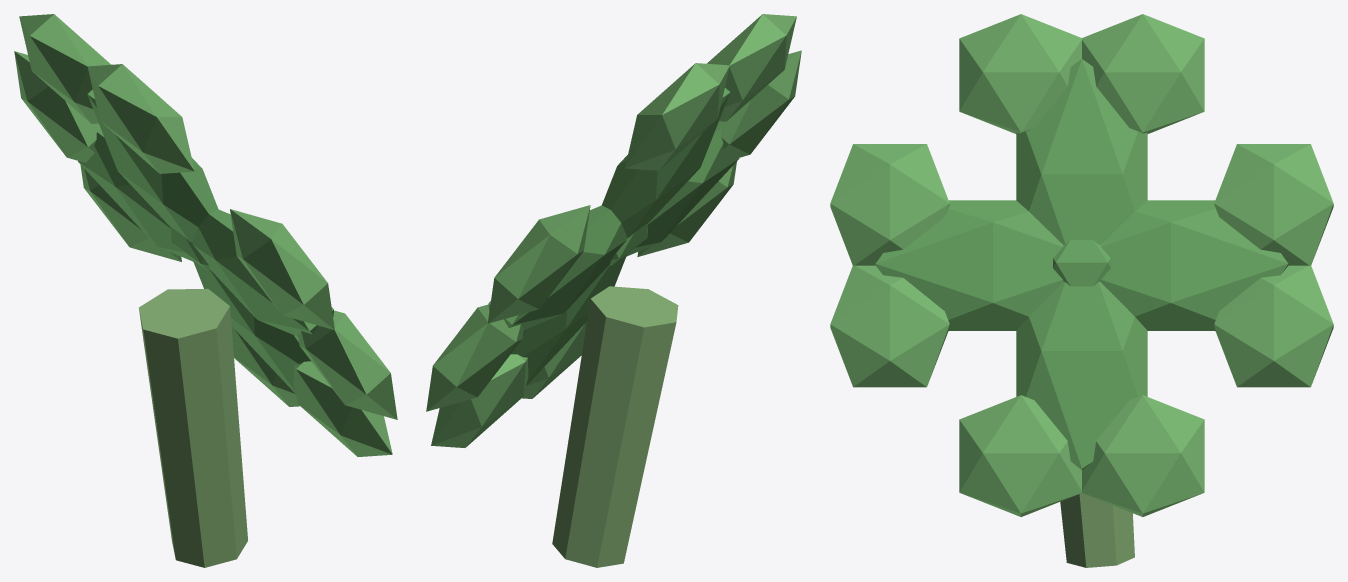
3 renders of one model, left to right at view 1: azimuth 30°, elevation 25°; view 2: azimuth 150°, elevation 25°; view 3: azimuth 270°, elevation 25°, orthographic. The views are drawn at different scales.
Parts seen in each view (by area): view 1: part13, part10, part6, part9, part8, part7, part1, part11, part3, part2, part5, part4 (+2 smaller); view 2: part13, part3, part7, part4, part8, part6, part0, part5, part10, part2, part11, part9 (+2 smaller); view 3: part2, part8, part5, part11, part0, part1, part4, part9, part6, part7, part3, part10 (+2 smaller).
Boxes of the visible parts, x1,y1,x2,y2 form: part13: [138, 288, 247, 567]; part10: [230, 209, 334, 329]; part6: [87, 64, 194, 173]; part9: [298, 310, 397, 419]; part8: [87, 89, 218, 242]; part7: [19, 14, 110, 123]; part1: [293, 361, 392, 456]; part11: [192, 209, 333, 336]; part3: [14, 51, 102, 162]; part2: [192, 259, 310, 393]; part5: [78, 132, 193, 261]; part4: [80, 164, 181, 261]; part13: [552, 286, 678, 567]; part3: [488, 205, 590, 323]; part7: [625, 63, 729, 170]; part4: [426, 304, 523, 411]; part8: [602, 88, 730, 237]; part6: [707, 14, 796, 121]; part0: [431, 354, 528, 447]; part5: [488, 205, 627, 329]; part10: [715, 50, 801, 159]; part2: [511, 254, 626, 385]; part11: [626, 129, 739, 256]; part9: [637, 162, 736, 256]; part2: [1016, 281, 1147, 469]; part8: [1016, 59, 1147, 244]; part5: [1100, 200, 1288, 330]; part11: [875, 200, 1063, 330]; part0: [1082, 395, 1204, 516]; part1: [959, 395, 1081, 516]; part4: [1214, 265, 1333, 387]; part9: [830, 265, 949, 387]; part6: [959, 14, 1081, 133]; part7: [1082, 14, 1204, 133]; part3: [1214, 144, 1333, 265]; part10: [830, 144, 949, 265].
Bounding box in the file's own units: 1.25 × 2.32 × 2.15.
